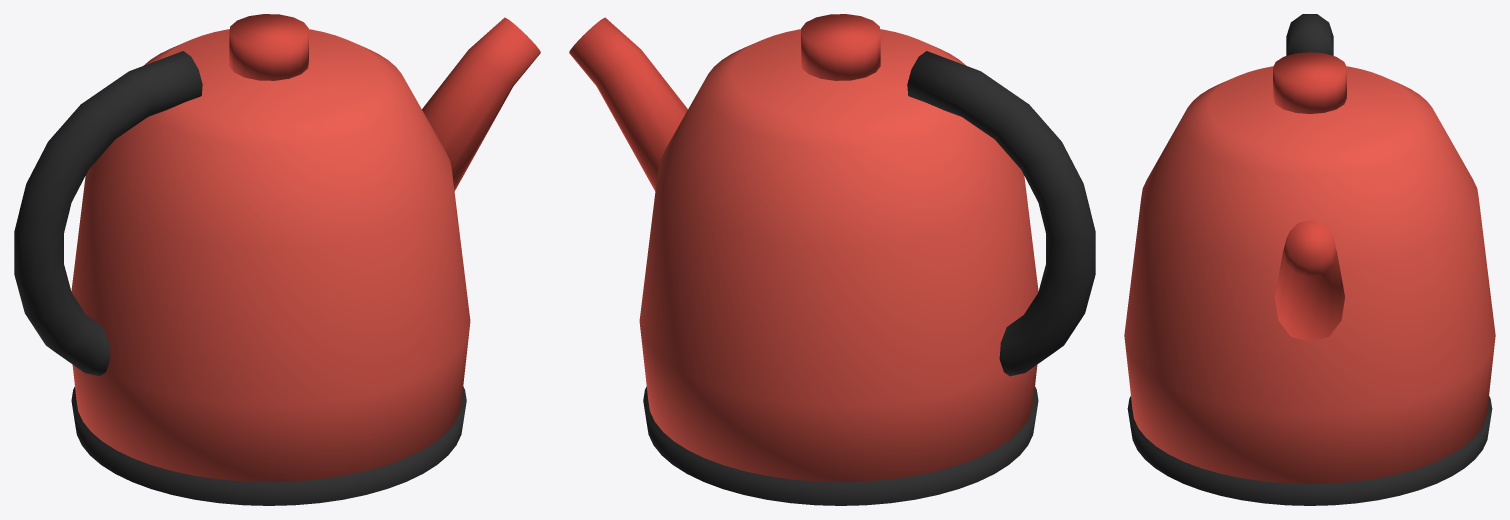
The model's file is kitchen-kettle.glb.
3 views of the same model, side by side, from view 1: azimuth 30°, elevation 25°; view 2: azimuth 150°, elevation 25°; view 3: azimuth 270°, elevation 25° (orthographic). The views are drawn at different scales.
Parts seen in each view (by area): view 1: Kettle__Body, Kettle__Handle, Kettle__SpoutLid, Kettle__Base; view 2: Kettle__Body, Kettle__Handle, Kettle__SpoutLid, Kettle__Base; view 3: Kettle__Body, Kettle__SpoutLid, Kettle__Base, Kettle__Handle.
Part boxes in pixels (x1,y1,x2,y2): Kettle__Body: (71, 29, 470, 481); Kettle__Handle: (14, 51, 202, 376); Kettle__SpoutLid: (229, 14, 540, 190); Kettle__Base: (71, 386, 466, 505); Kettle__Body: (639, 29, 1038, 481); Kettle__Handle: (907, 51, 1095, 376); Kettle__SpoutLid: (569, 14, 880, 190); Kettle__Base: (643, 386, 1038, 505); Kettle__Body: (1124, 66, 1495, 483); Kettle__SpoutLid: (1273, 52, 1346, 341); Kettle__Base: (1127, 396, 1492, 505); Kettle__Handle: (1286, 14, 1333, 55).
Bounding box in the file's own units: 32.66 × 23.7 × 22.
